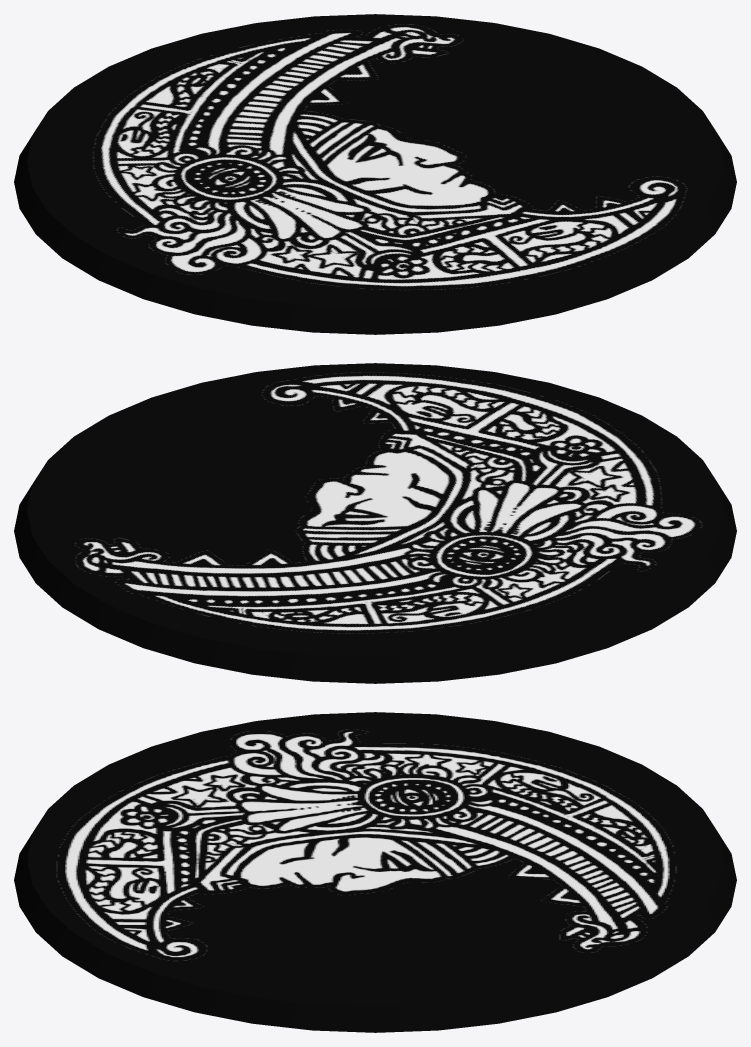
The model's file is moon.fbx.
3 renders of one model, top to bottom at view 1: azimuth 30°, elevation 25°; view 2: azimuth 150°, elevation 25°; view 3: azimuth 270°, elevation 25°, orthographic.
Visible parts, largest first — view 1: Cone001; view 2: Cone001; view 3: Cone001.
Part boxes in pixels (x1,y1,x2,y2): Cone001: (14, 14, 736, 334); Cone001: (14, 363, 736, 683); Cone001: (14, 712, 736, 1032).
Size of the model in its own units: 3.36 by 0.1061 by 3.36.
Materials: 1 (1 with a texture image).
